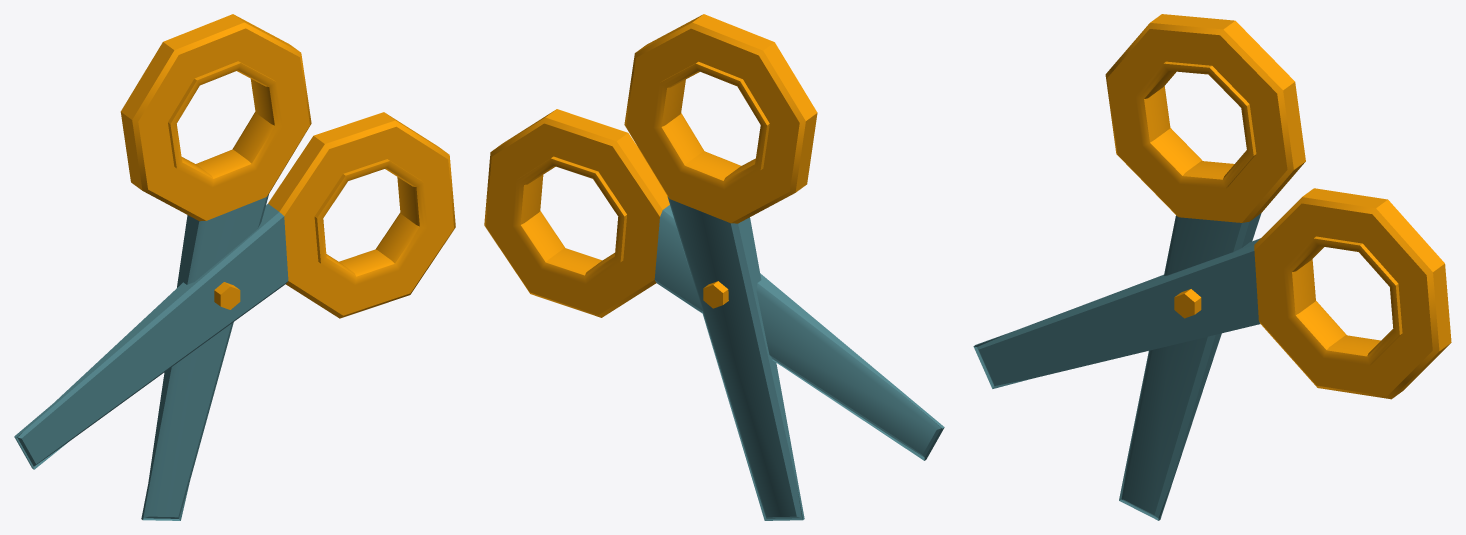
Rendered from Scissors.fbx.
3 renders of one model, left to right at view 1: azimuth 30°, elevation 25°; view 2: azimuth 150°, elevation 25°; view 3: azimuth 330°, elevation 25°, orthographic. The views are drawn at different scales.
Visible parts, largest first — view 1: Scissors; view 2: Scissors; view 3: Scissors.
Part boxes in pixels (x1,y1,x2,y2): Scissors: [14, 14, 455, 520]; Scissors: [484, 14, 944, 520]; Scissors: [973, 14, 1451, 520].
Bounding box in the file's own units: 7.66 × 8.02 × 0.8423.
